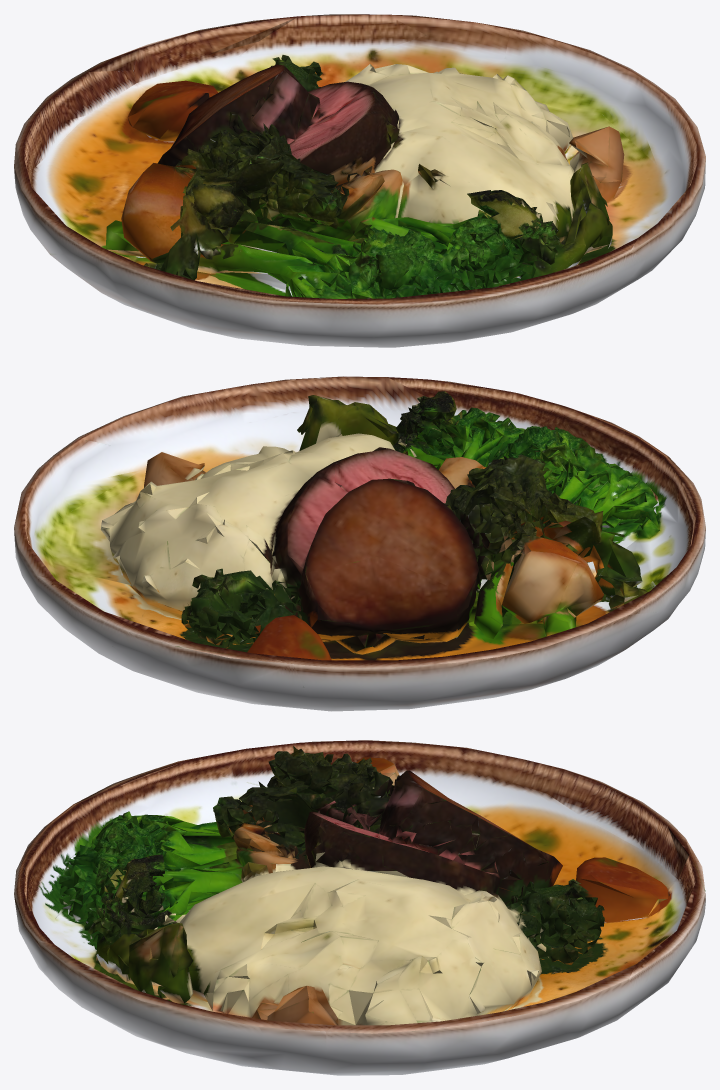
File: poledwica-wolowa.glb
3 views of the same model, one above another, from view 1: azimuth 30°, elevation 25°; view 2: azimuth 150°, elevation 25°; view 3: azimuth 270°, elevation 25° (orthographic).
Parts seen in each view (by area): view 1: output_unwrapped; view 2: output_unwrapped; view 3: output_unwrapped.
Part boxes in pixels (left/top/right/bottom): output_unwrapped: left=14, top=14, right=705, bottom=347; output_unwrapped: left=14, top=376, right=705, bottom=711; output_unwrapped: left=14, top=740, right=705, bottom=1075.
Bounding box in the file's own units: 0.0394 × 0.01 × 0.0395.
Materials: 1 (1 with a texture image).
